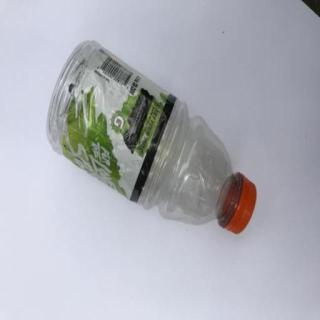Plastic-bottle: (46, 39, 258, 235)
